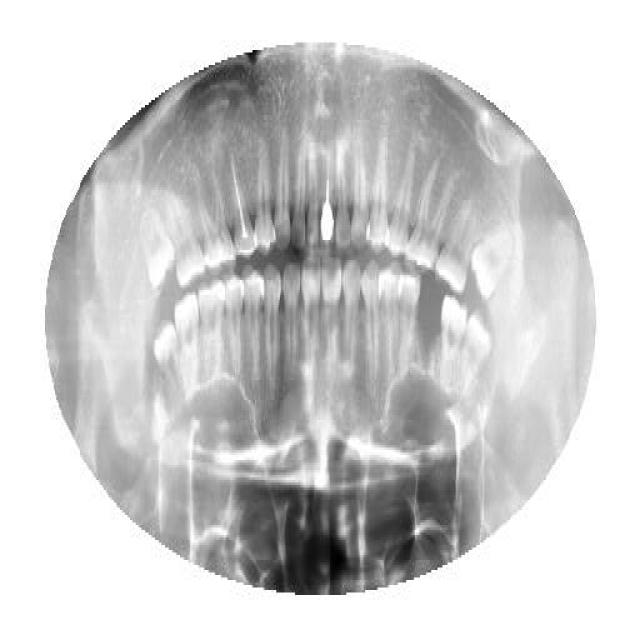Impacted Tooth: (470, 212, 514, 302)
Implant: (228, 140, 258, 255), (320, 155, 336, 245)
